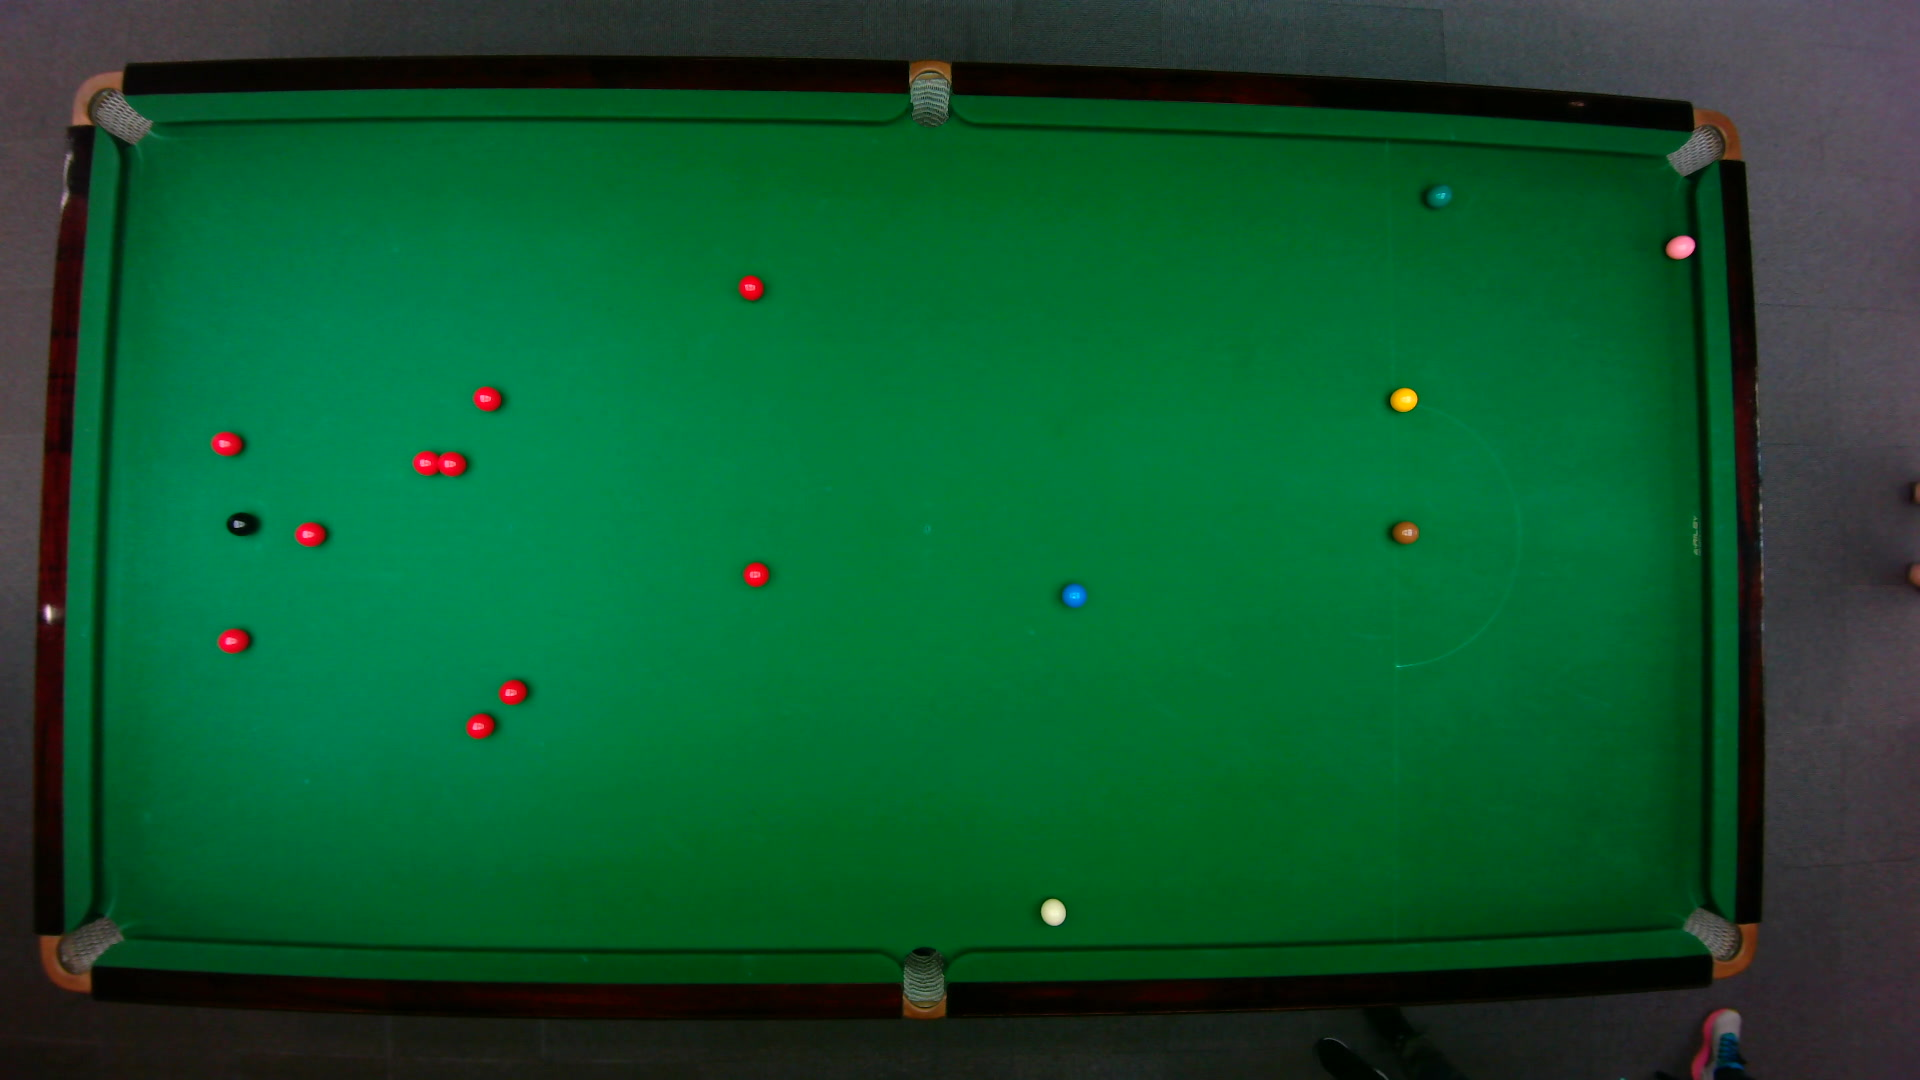bag: (37, 914, 125, 993), (69, 69, 153, 145), (1679, 905, 1758, 978), (1663, 107, 1741, 177), (901, 944, 944, 1021), (909, 57, 949, 128)
black: (223, 510, 257, 535)
blue: (1059, 580, 1087, 608)
brown: (1390, 520, 1419, 545)
green: (1422, 182, 1453, 208)
pink: (1663, 232, 1697, 260)
red: (215, 626, 251, 653), (463, 711, 496, 738), (293, 520, 326, 547), (471, 384, 502, 411), (210, 430, 243, 456), (497, 678, 527, 705), (436, 448, 467, 476), (410, 448, 440, 475), (736, 273, 764, 301), (741, 560, 770, 587)
white: (1038, 895, 1067, 926)
yellow: (1389, 385, 1419, 411)
zone: (1390, 402, 1520, 667)
